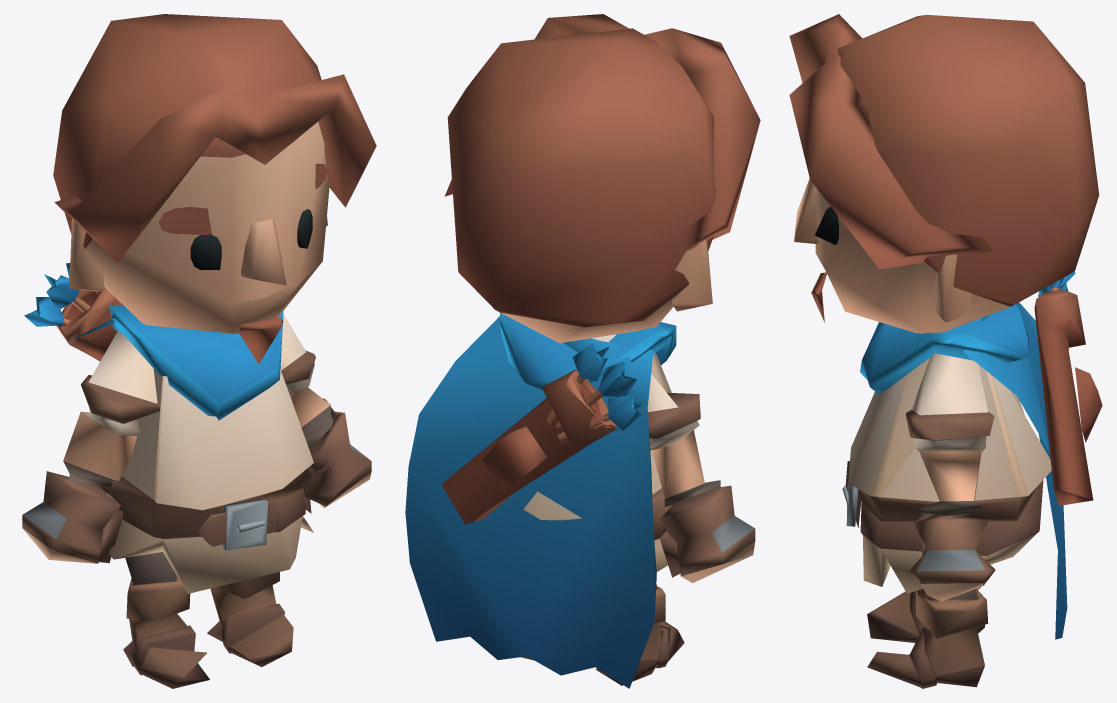
File: soldier-0.glb
The picture shows the model from 3 angles, left to right: view 1: azimuth 30°, elevation 25°; view 2: azimuth 150°, elevation 25°; view 3: azimuth 270°, elevation 25°; orthographic projection. The views are drawn at different scales.
Parts seen in each view (by area): view 1: soldier:0; view 2: soldier:0; view 3: soldier:0.
Boxes of the visible parts, <box> form: soldier:0: <box>22,14,376,688</box>; soldier:0: <box>405,14,760,688</box>; soldier:0: <box>789,14,1102,688</box>.
Bounding box in the file's own units: 0.6993 × 1.3 × 0.5851.
1 material, 1 textured.
